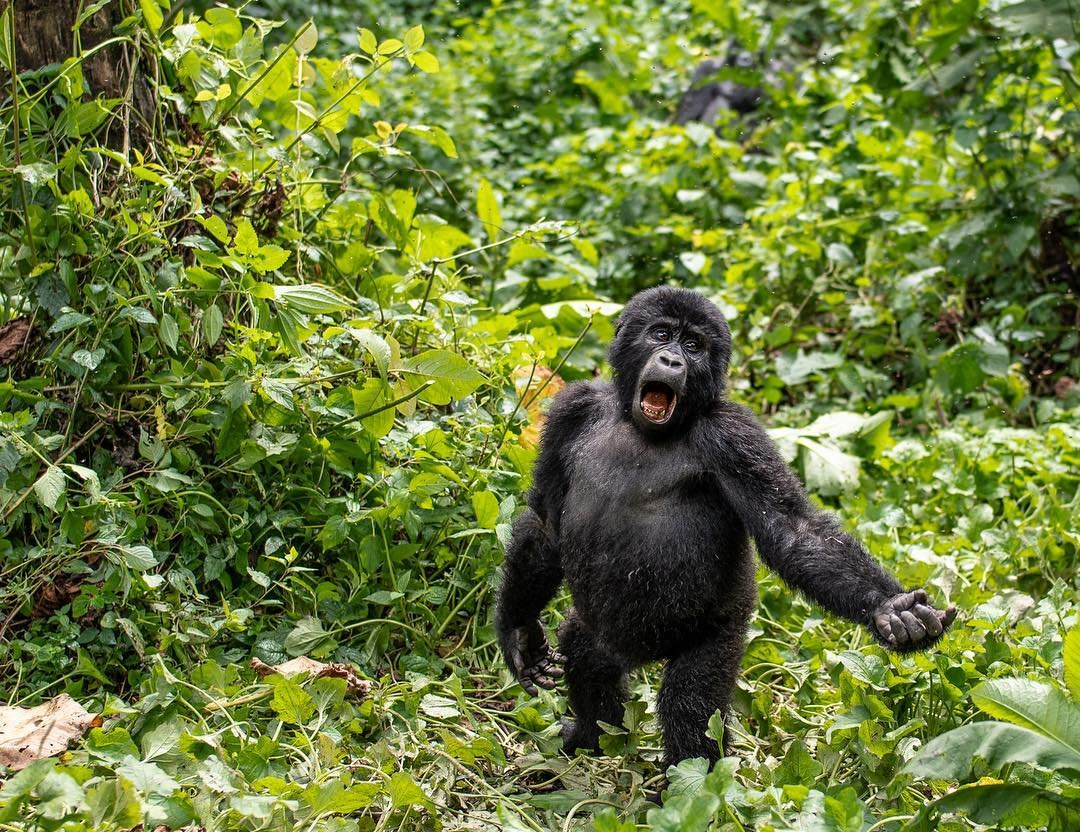gorilla: (486, 278, 962, 817)
